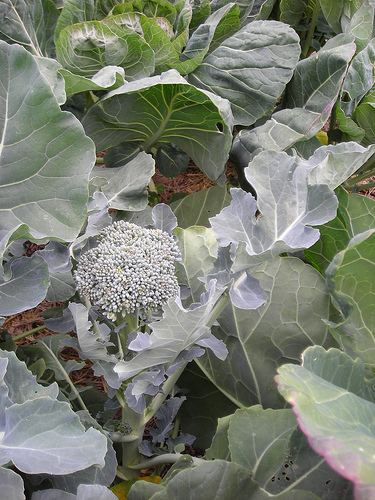broccoli: (72, 213, 193, 350)
